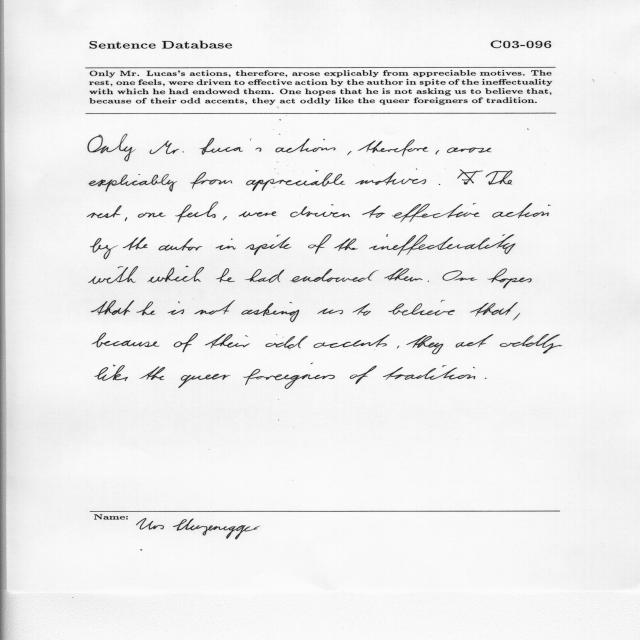word: (369, 234, 515, 256), (243, 363, 335, 389), (246, 170, 345, 191), (392, 203, 480, 222), (89, 174, 177, 192), (383, 365, 475, 380), (88, 134, 136, 162), (500, 334, 562, 353), (242, 302, 300, 322), (290, 269, 378, 282), (358, 140, 429, 156), (355, 169, 426, 185), (314, 334, 390, 348), (200, 138, 262, 155), (388, 301, 455, 316), (147, 266, 204, 283), (92, 333, 160, 347), (246, 235, 292, 255), (276, 138, 336, 153), (89, 266, 139, 284), (487, 269, 532, 289), (492, 203, 551, 218), (458, 169, 513, 185), (175, 202, 218, 222), (290, 205, 350, 218), (179, 374, 231, 388), (470, 302, 518, 317), (191, 172, 233, 189), (407, 335, 444, 354), (91, 301, 134, 316), (265, 334, 308, 349), (205, 334, 250, 348), (194, 300, 235, 315), (90, 238, 118, 259), (159, 238, 202, 251), (385, 268, 423, 282), (95, 365, 128, 381), (245, 269, 285, 282), (456, 334, 493, 348), (350, 366, 377, 385), (308, 234, 331, 254), (174, 333, 198, 352), (87, 206, 122, 219), (150, 141, 184, 154), (443, 270, 478, 281), (139, 367, 165, 380), (123, 237, 148, 250), (334, 238, 358, 251), (362, 205, 385, 218), (216, 268, 235, 282), (137, 302, 156, 316), (447, 147, 491, 153), (352, 303, 371, 316), (216, 238, 236, 250), (168, 301, 185, 315), (239, 212, 276, 218), (317, 309, 343, 315), (138, 213, 166, 218), (513, 313, 520, 321), (347, 151, 352, 155), (436, 150, 440, 155), (223, 216, 227, 220), (125, 217, 127, 221), (397, 346, 399, 349), (485, 378, 487, 379), (439, 184, 440, 185), (428, 281, 429, 282)
